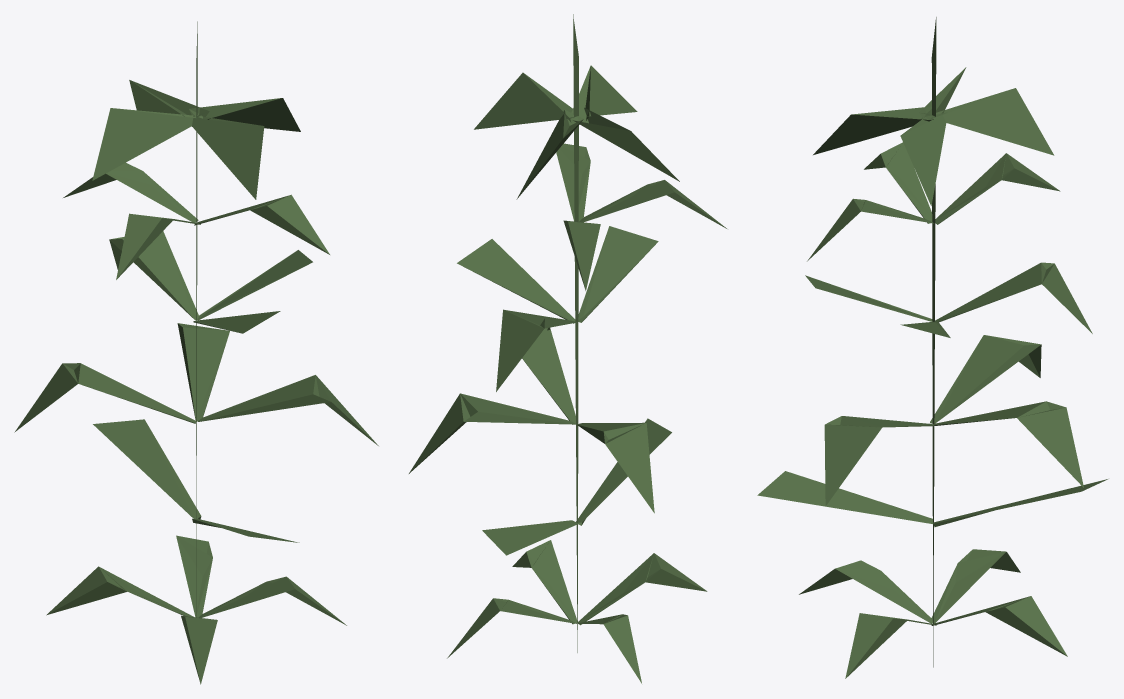
File: Corn_1.lod2.glb
3 views of the same model, side by side, from view 1: azimuth 30°, elevation 25°; view 2: azimuth 150°, elevation 25°; view 3: azimuth 270°, elevation 25° (orthographic).
Parts seen in each view (by area): view 1: Corn_1; view 2: Corn_1; view 3: Corn_1.
Part boxes in pixels (box(x1,y1,x2,y2)): Corn_1: box(14, 21, 378, 684); Corn_1: box(409, 14, 726, 683); Corn_1: box(757, 17, 1107, 678).
Bounding box in the file's own units: 0.81 × 1.98 × 0.9414.
